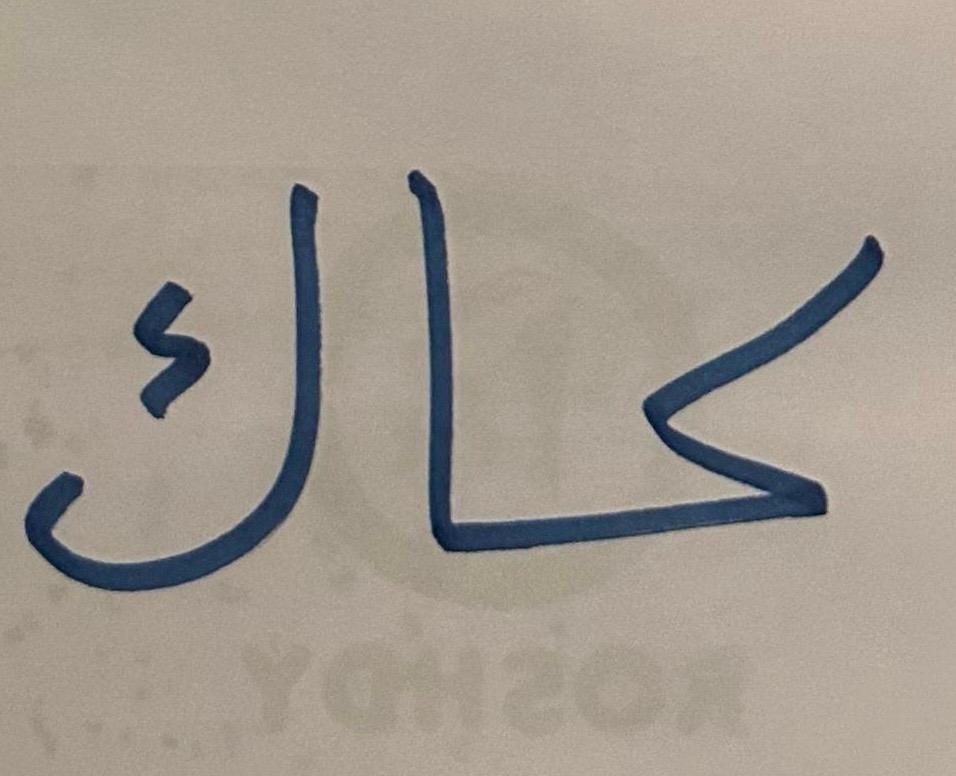alef: (362, 117, 526, 617)
khah: (3, 86, 350, 637), (532, 153, 929, 630)
